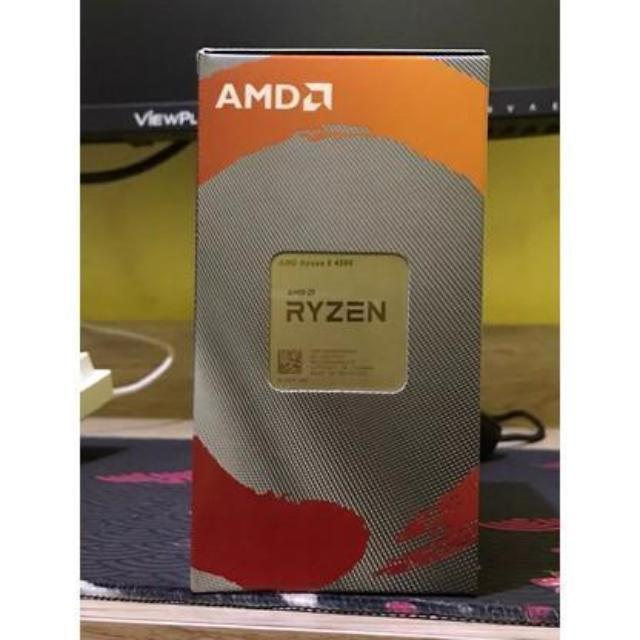CPU: (265, 245, 413, 400)
